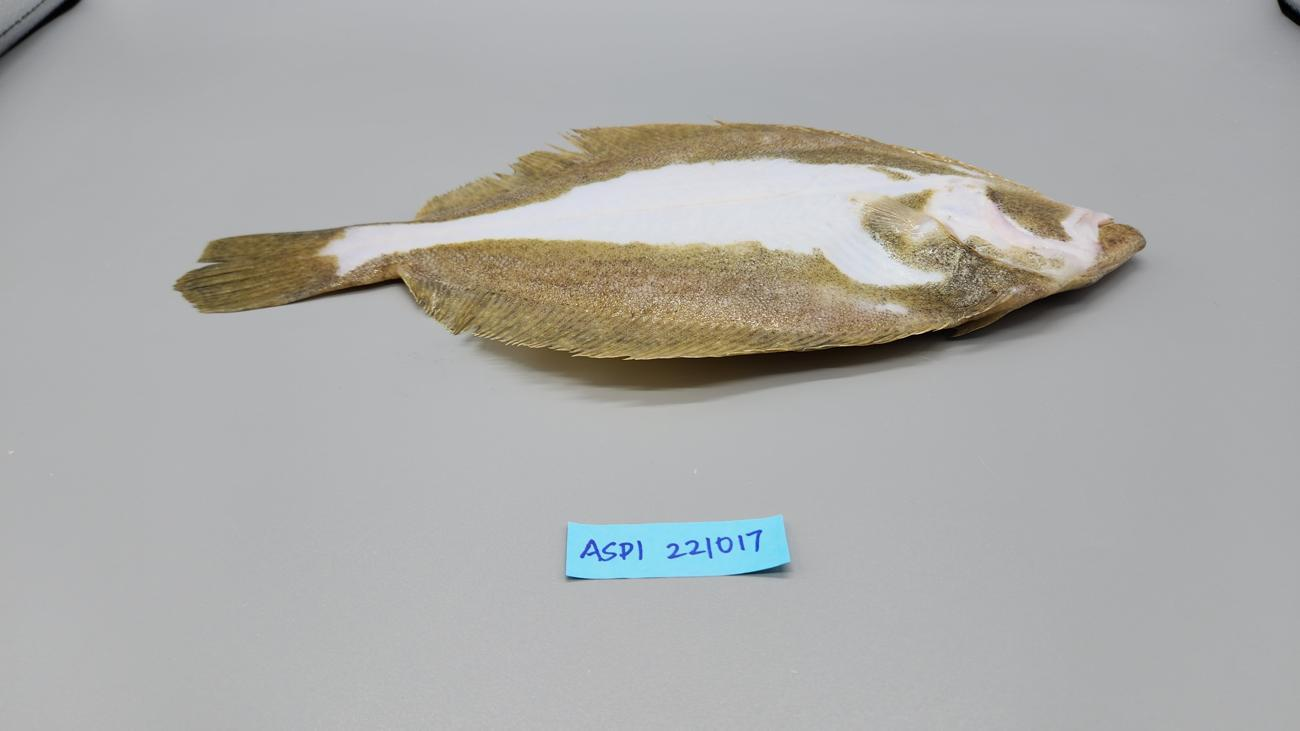SPDYH: (350, 255, 944, 333)
SPOUY: (169, 111, 1153, 376)
